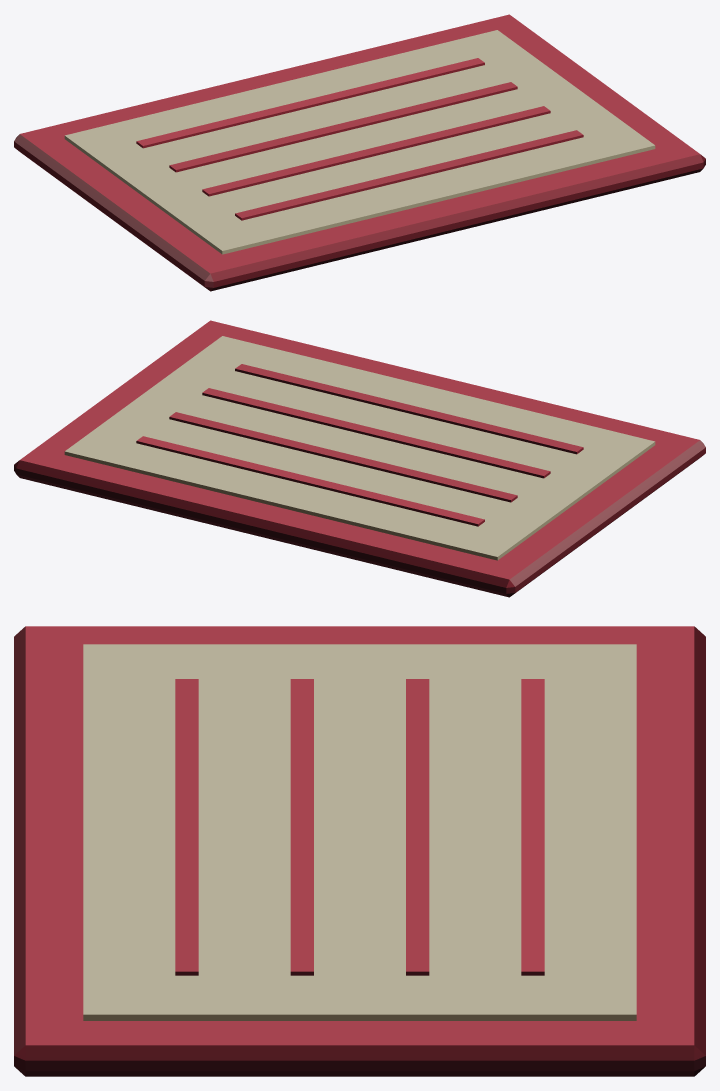
The model's file is doormat.glb.
3 views of the same model, one above another, from view 1: azimuth 30°, elevation 25°; view 2: azimuth 150°, elevation 25°; view 3: azimuth 270°, elevation 25° (orthographic). The views are drawn at different scales.
Parts seen in each view (by area): view 1: doormat; view 2: doormat; view 3: doormat.
Part boxes in pixels (left/top/right/bottom): doormat: left=14, top=14, right=705, bottom=291; doormat: left=14, top=320, right=705, bottom=597; doormat: left=14, top=626, right=705, bottom=1076.
Bounding box in the file's own units: 0.88 × 0.04 × 0.6.
